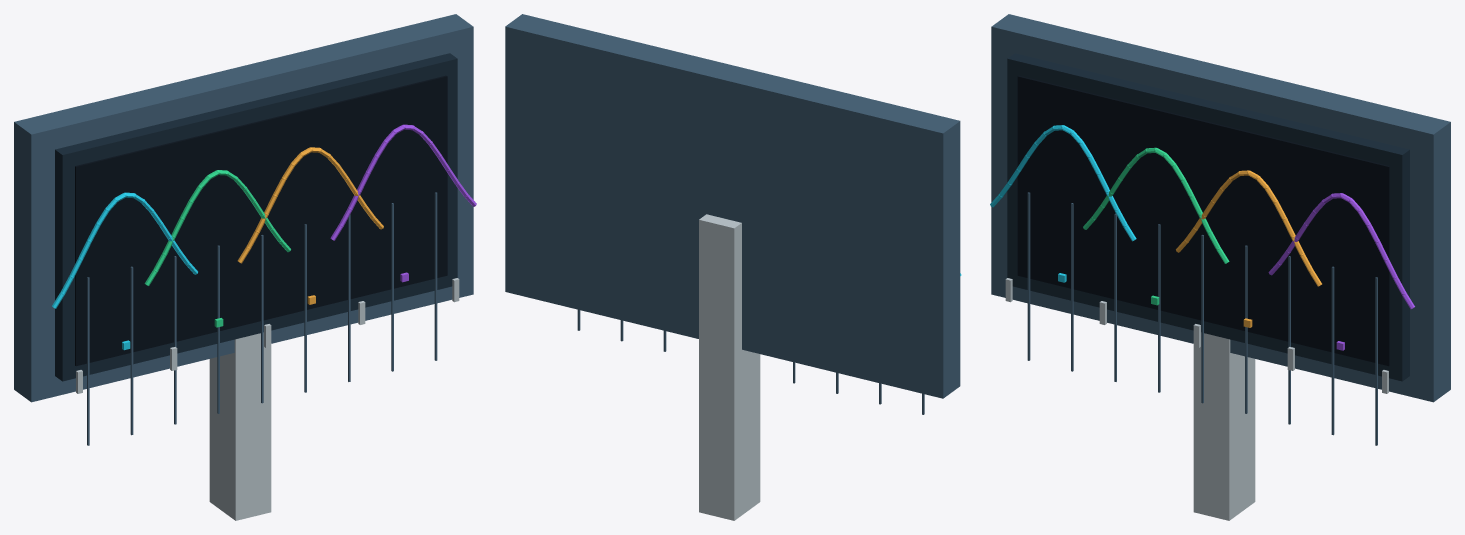
The model's file is 42_L80_HighResolutionOpticalSpectrumAnalyzer.fbx.
The picture shows the model from 3 angles, left to right: view 1: azimuth 30°, elevation 25°; view 2: azimuth 150°, elevation 25°; view 3: azimuth 330°, elevation 25°; orthographic projection.
Parts seen in each view (by area): view 1: HighResolutionOpticalSpectrumAnalyzer_Part_0008, HighResolutionOpticalSpectrumAnalyzer, HighResolutionOpticalSpectrumAnalyzer_Part_0007, HighResolutionOpticalSpectrumAnalyzer_Part_0138, HighResolutionOpticalSpectrumAnalyzer_Part_0145; view 2: HighResolutionOpticalSpectrumAnalyzer; view 3: HighResolutionOpticalSpectrumAnalyzer_Part_0008, HighResolutionOpticalSpectrumAnalyzer, HighResolutionOpticalSpectrumAnalyzer_Part_0007, HighResolutionOpticalSpectrumAnalyzer_Part_0144, HighResolutionOpticalSpectrumAnalyzer_Part_0137.
Boxes of the visible parts, box(x1,y1,x2,y2) form: HighResolutionOpticalSpectrumAnalyzer_Part_0008: box(75, 75, 447, 366); HighResolutionOpticalSpectrumAnalyzer: box(14, 14, 473, 520); HighResolutionOpticalSpectrumAnalyzer_Part_0007: box(55, 53, 457, 381); HighResolutionOpticalSpectrumAnalyzer_Part_0138: box(130, 266, 133, 435); HighResolutionOpticalSpectrumAnalyzer_Part_0145: box(434, 192, 437, 360); HighResolutionOpticalSpectrumAnalyzer: box(505, 14, 960, 520); HighResolutionOpticalSpectrumAnalyzer_Part_0008: box(1017, 75, 1389, 366); HighResolutionOpticalSpectrumAnalyzer: box(991, 14, 1450, 520); HighResolutionOpticalSpectrumAnalyzer_Part_0007: box(1007, 53, 1409, 381); HighResolutionOpticalSpectrumAnalyzer_Part_0144: box(1331, 266, 1334, 435); HighResolutionOpticalSpectrumAnalyzer_Part_0137: box(1027, 192, 1030, 360).
Size of the model in its own units: 235 by 221 by 37.9.
